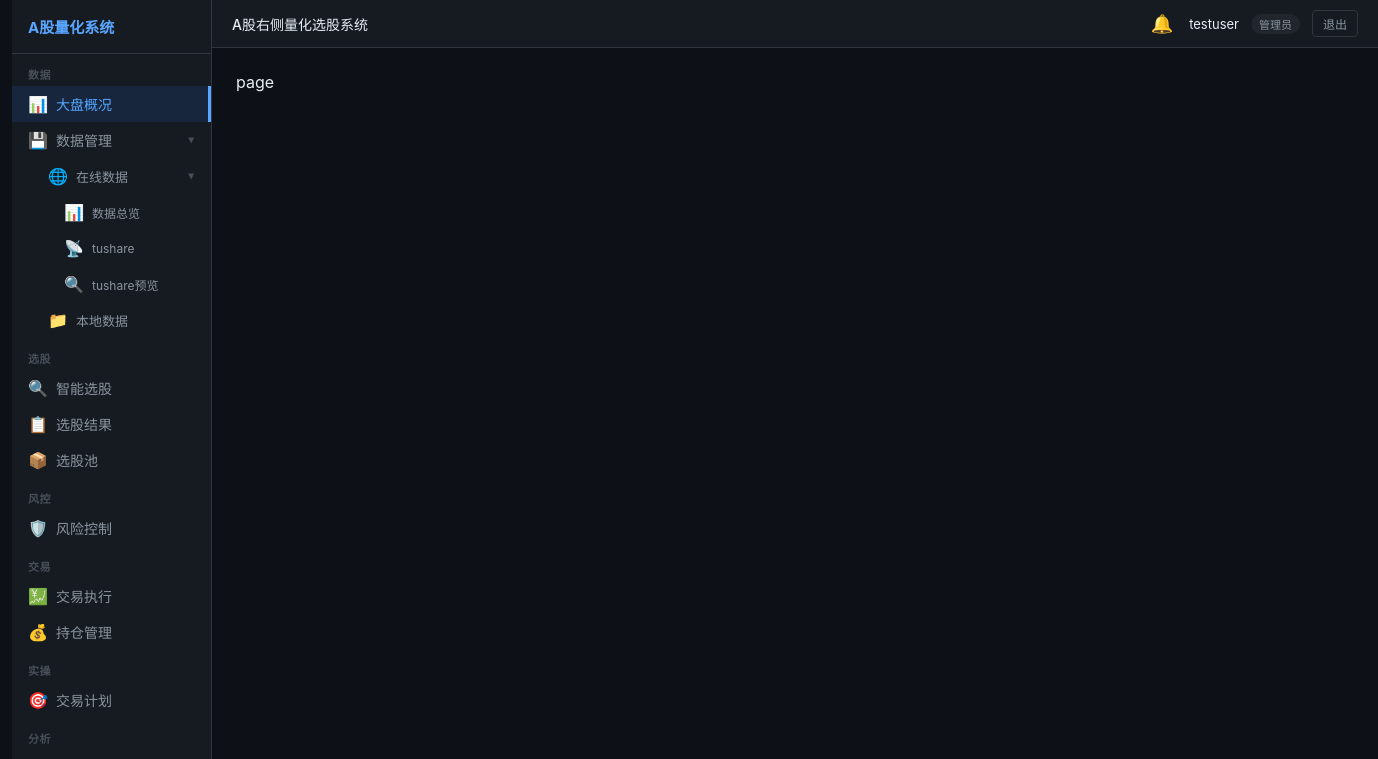
Test: MainLayout › 预警通知铃铛 › 点击铃铛展开通知面板
What coordinates should you click on to do the following:
click the button with class "notification-bell"
I would click on:
 (1162, 24)
Its box is [1147, 10, 1177, 36].
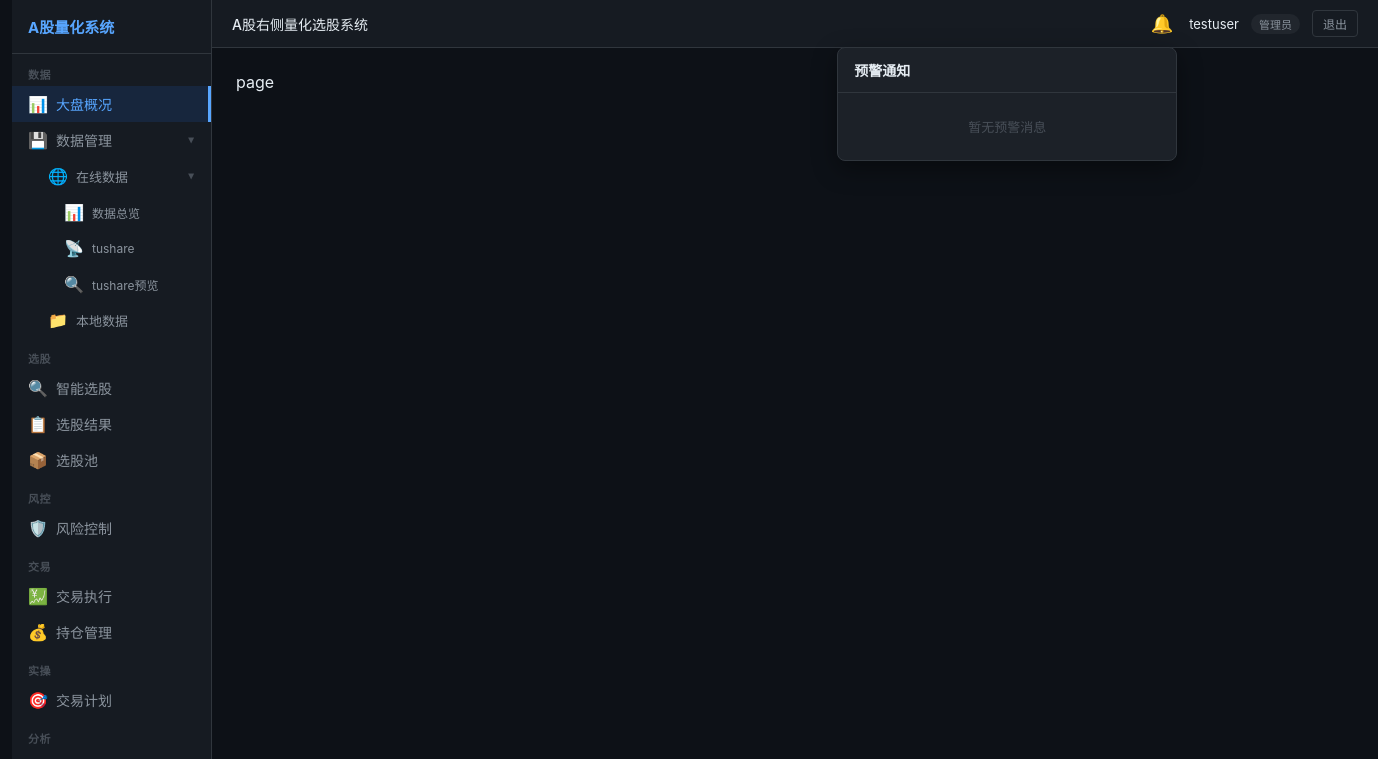
Now the element with class "notification-panel" is shown, box [837, 46, 1177, 160]
